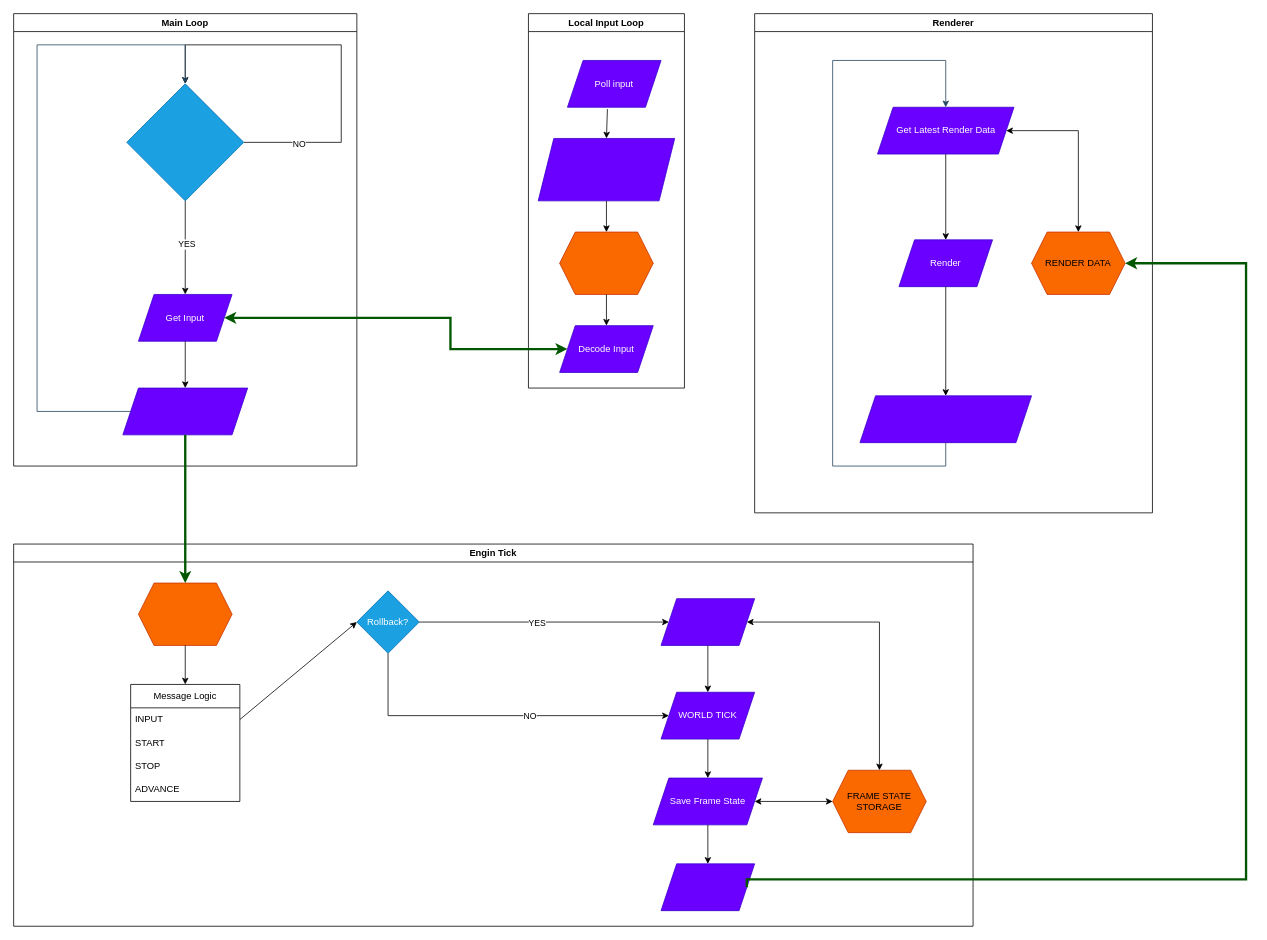
Some shapes in this 1267 by 940 pixel diagram are drawn without their labels. Each missing label, with the centre of its shape:
Delta > 16.67 ms?: point (185, 142)
INPUT MESSAGE: point (185, 613)
INPUT STORAGE DTO: point (606, 262)
Post to renderer: point (707, 887)
Request Animation Frame: point (945, 419)
RollBack: point (707, 621)
Send Input to Engine: point (185, 411)
Store Local input in DTO: point (606, 169)
